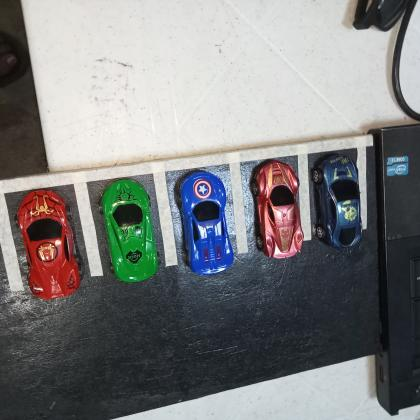Car: (14, 189, 84, 301), (97, 178, 161, 284), (179, 170, 236, 276), (251, 158, 305, 260), (314, 153, 364, 250)
